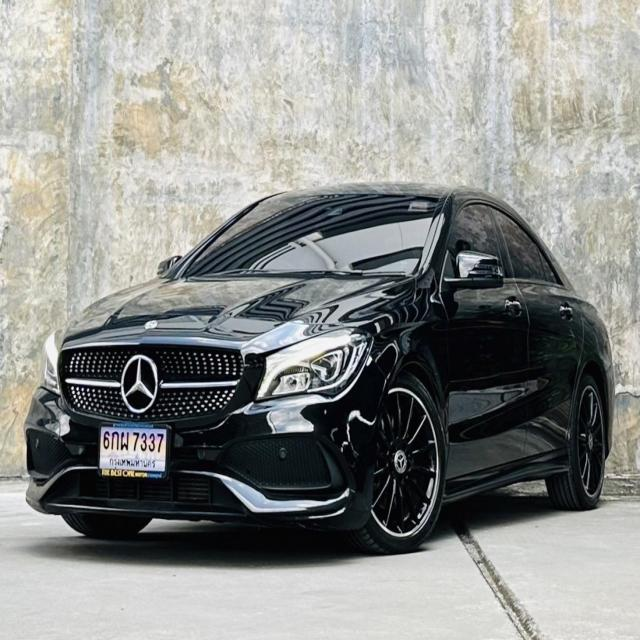license_plate: (96, 418, 173, 479)
